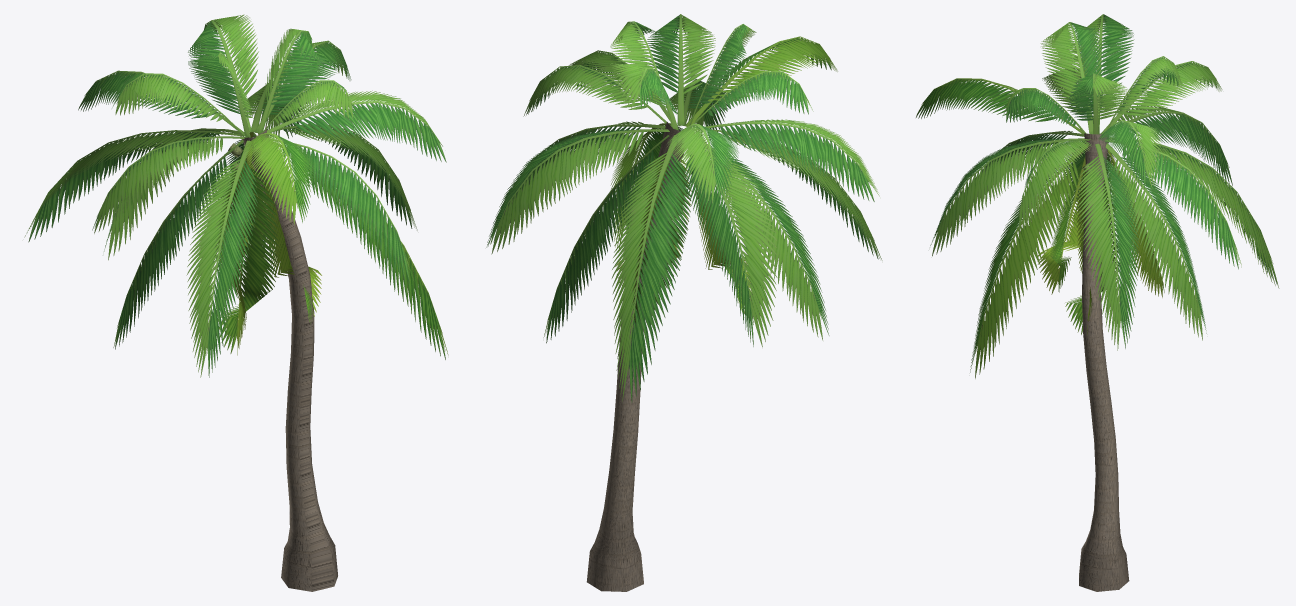
File: palm-c.glb
The picture shows the model from 3 angles, left to right: view 1: azimuth 30°, elevation 25°; view 2: azimuth 150°, elevation 25°; view 3: azimuth 270°, elevation 25°; orthographic projection. The views are drawn at different scales.
Visible parts, largest first — view 1: palm-2; view 2: palm-2; view 3: palm-2.
Boxes of the visible parts, left/top/right/bottom form: palm-2: left=24, top=14, right=448, bottom=591; palm-2: left=486, top=14, right=882, bottom=591; palm-2: left=916, top=14, right=1279, bottom=591.
Bounding box in the file's own units: 8.63 × 12.96 × 8.46.
2 materials, 2 textured.
